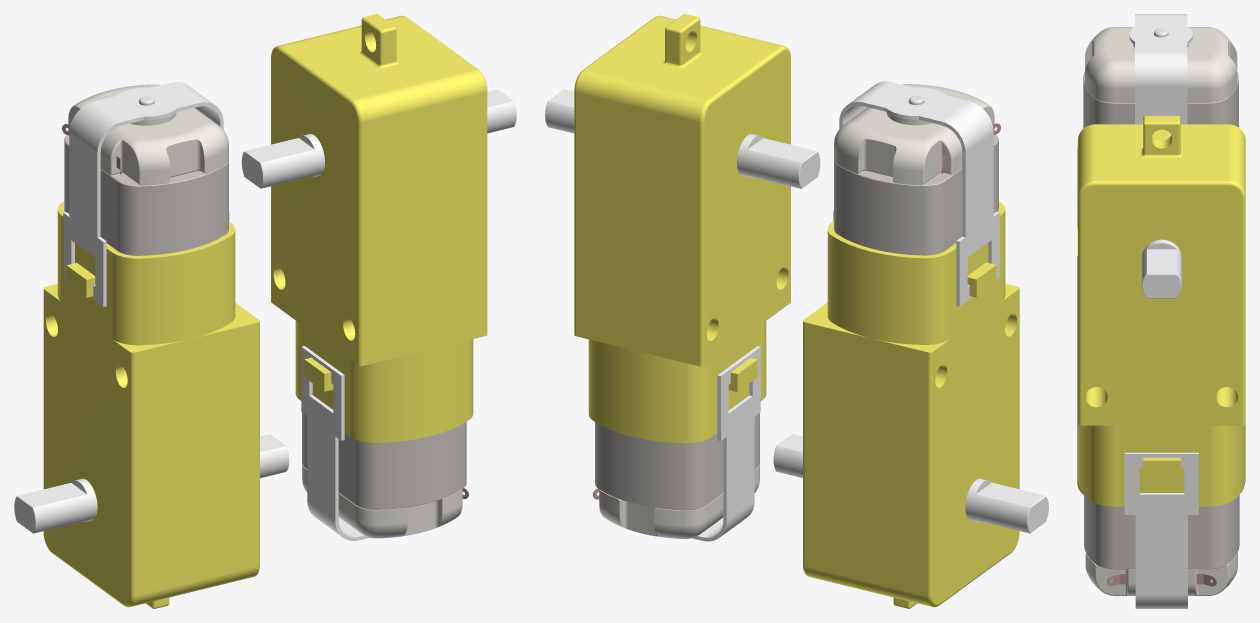
File: motores.glb
3 renders of one model, left to right at view 1: azimuth 30°, elevation 25°; view 2: azimuth 150°, elevation 25°; view 3: azimuth 270°, elevation 25°, orthographic. The views are drawn at different scales.
Parts seen in each view (by area): view 1: Body6, Body6.001, Body5.001, Body4.001, Body5, Body7.001, Body4, Body7, Body1.001, Body2, Body1, Body2.001; view 2: Body6, Body6.001, Body5.001, Body4.001, Body5, Body7.001, Body4, Body7, Body1.001, Body2, Body1, Body2.001; view 3: Body6, Body4, Body7.001, Body5, Body4.001, Body5.001, Body1, Body7, Body6.001.
Part boxes in pixels (x1=…): Body6: x1=271, y1=14, x2=487, y2=442; Body6.001: x1=43, y1=201, x2=259, y2=608; Body5.001: x1=64, y1=135, x2=228, y2=255; Body4.001: x1=63, y1=82, x2=229, y2=306; Body5: x1=302, y1=412, x2=466, y2=509; Body7.001: x1=68, y1=84, x2=228, y2=185; Body4: x1=301, y1=346, x2=369, y2=540; Body7: x1=302, y1=464, x2=462, y2=538; Body1.001: x1=14, y1=478, x2=97, y2=533; Body2: x1=241, y1=134, x2=324, y2=188; Body1: x1=487, y1=89, x2=516, y2=133; Body2.001: x1=260, y1=434, x2=289, y2=478; Body6: x1=574, y1=14, x2=790, y2=443; Body6.001: x1=803, y1=201, x2=1019, y2=608; Body5.001: x1=834, y1=134, x2=998, y2=255; Body4.001: x1=833, y1=81, x2=999, y2=306; Body5: x1=595, y1=413, x2=759, y2=510; Body7.001: x1=834, y1=84, x2=994, y2=185; Body4: x1=692, y1=346, x2=760, y2=541; Body7: x1=599, y1=465, x2=759, y2=538; Body1.001: x1=965, y1=478, x2=1048, y2=533; Body2: x1=737, y1=134, x2=820, y2=188; Body1: x1=545, y1=89, x2=574, y2=133; Body2.001: x1=773, y1=434, x2=802, y2=477; Body6: x1=1078, y1=116, x2=1245, y2=506; Body4: x1=1124, y1=452, x2=1198, y2=608; Body7.001: x1=1085, y1=27, x2=1237, y2=102; Body5: x1=1084, y1=494, x2=1239, y2=569; Body4.001: x1=1129, y1=14, x2=1192, y2=124; Body5.001: x1=1083, y1=71, x2=1238, y2=128; Body1: x1=1141, y1=239, x2=1181, y2=298; Body7: x1=1085, y1=553, x2=1237, y2=595; Body6.001: x1=1077, y1=138, x2=1244, y2=494.
Size of the model in its own units: 0.0698 by 0.0724 by 0.0226.
